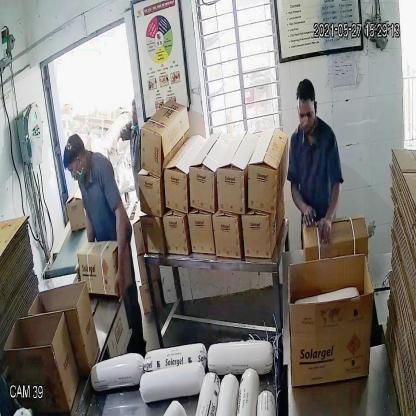no_goggles: (295, 104, 319, 122)
